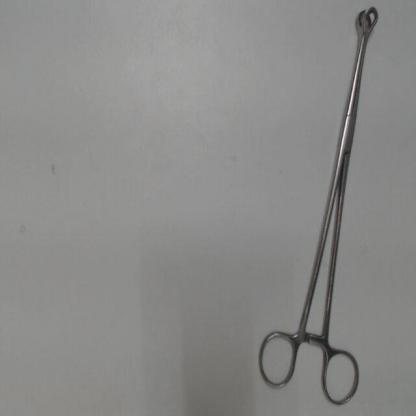8 Babcock Tissue Forceps: (249, 4, 385, 414)
